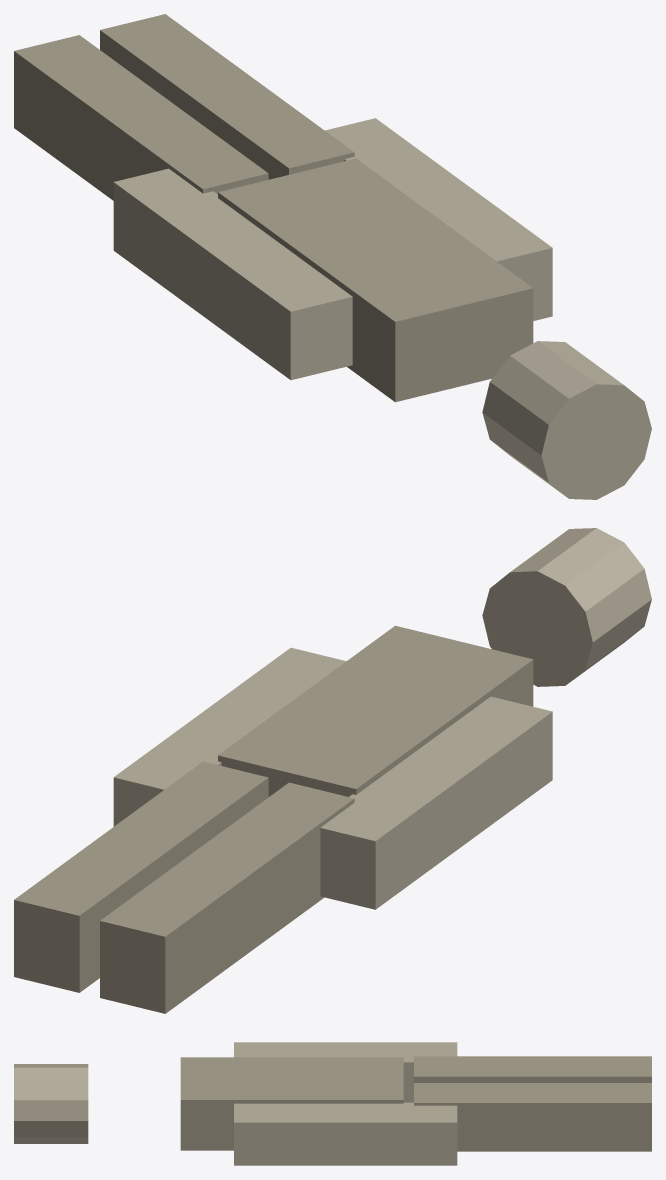
The model's file is enemy_lab_subject_blockout.obj.
3 views of the same model, one above another, from view 1: azimuth 30°, elevation 25°; view 2: azimuth 150°, elevation 25°; view 3: azimuth 270°, elevation 25° (orthographic). The views are drawn at different scales.
Bounding box in the file's own units: 0.64 × 0.27 × 2.14.
